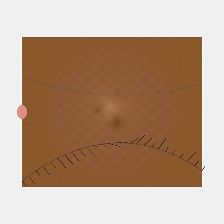corneal_ulcer: (78, 97, 129, 138)
